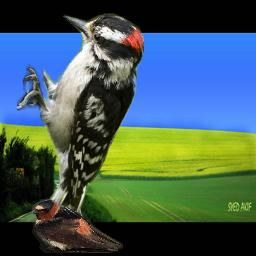Swallow: (32, 199, 123, 253)
Woodpecker: (17, 10, 144, 245)
